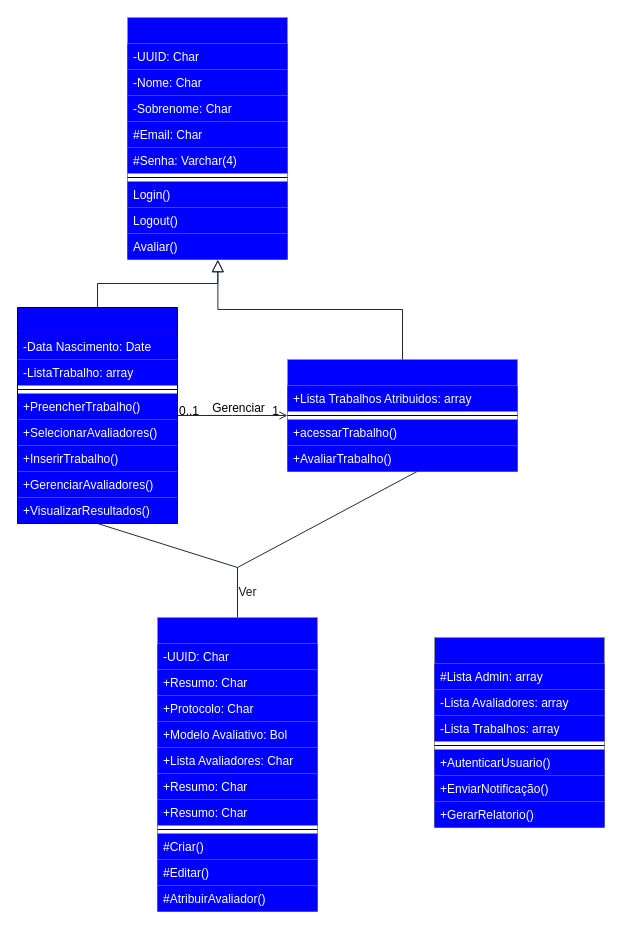
Image size: 622x932. Some labels were removed from this diagram. The shapes that lost their labels are listed below. From the top down, each one's box as (x1, y1, x2, y2) in pixels, then its label:
(126, 16, 288, 260): Usuario
(16, 306, 178, 524): Admin
(286, 358, 518, 472): Avaliador
(434, 636, 604, 828): Sistema
(156, 616, 318, 912): Trabalho
